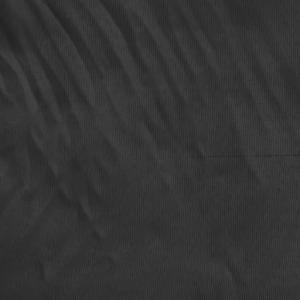Wrinkle: (1, 1, 300, 241)
